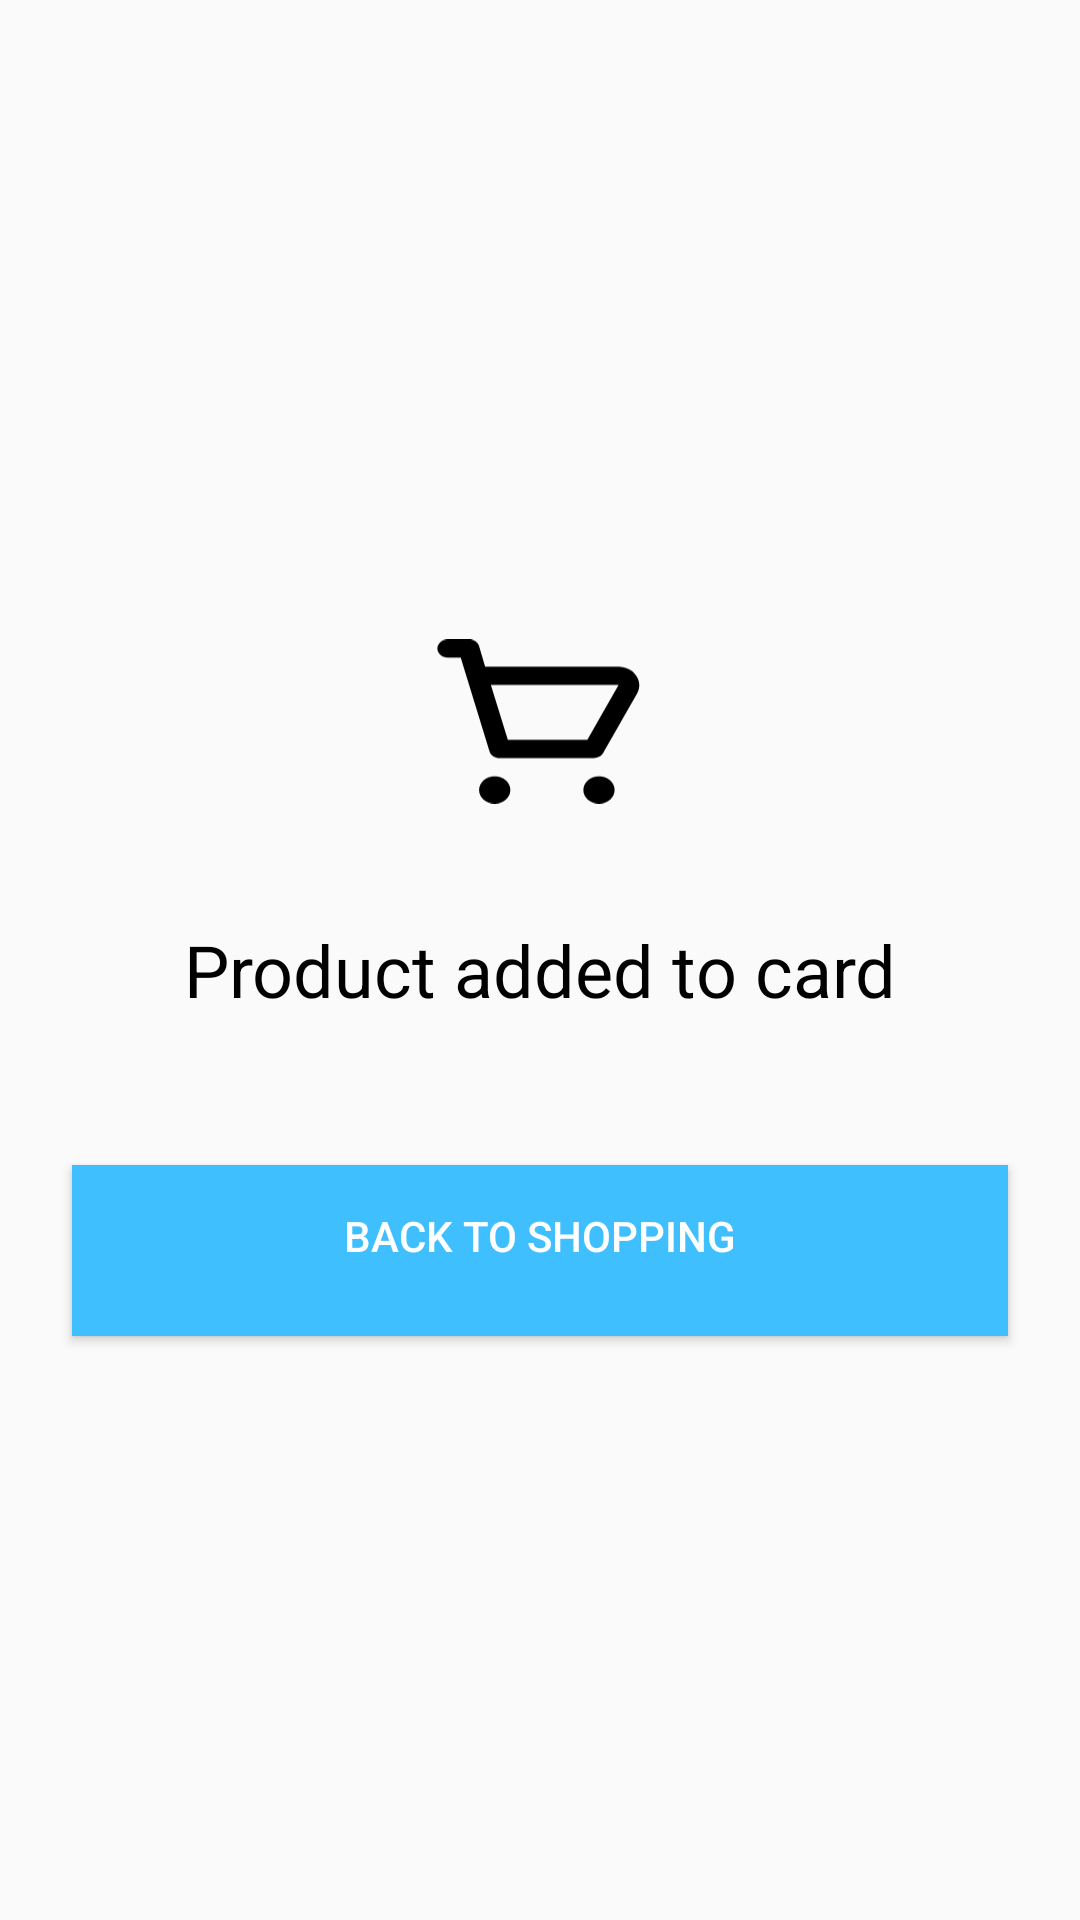

Named icons in this screenshot (1080 x 1920) and their bounding boxes, (x1, y1, x2, y2):
checkoutt: (437, 639, 640, 804)
